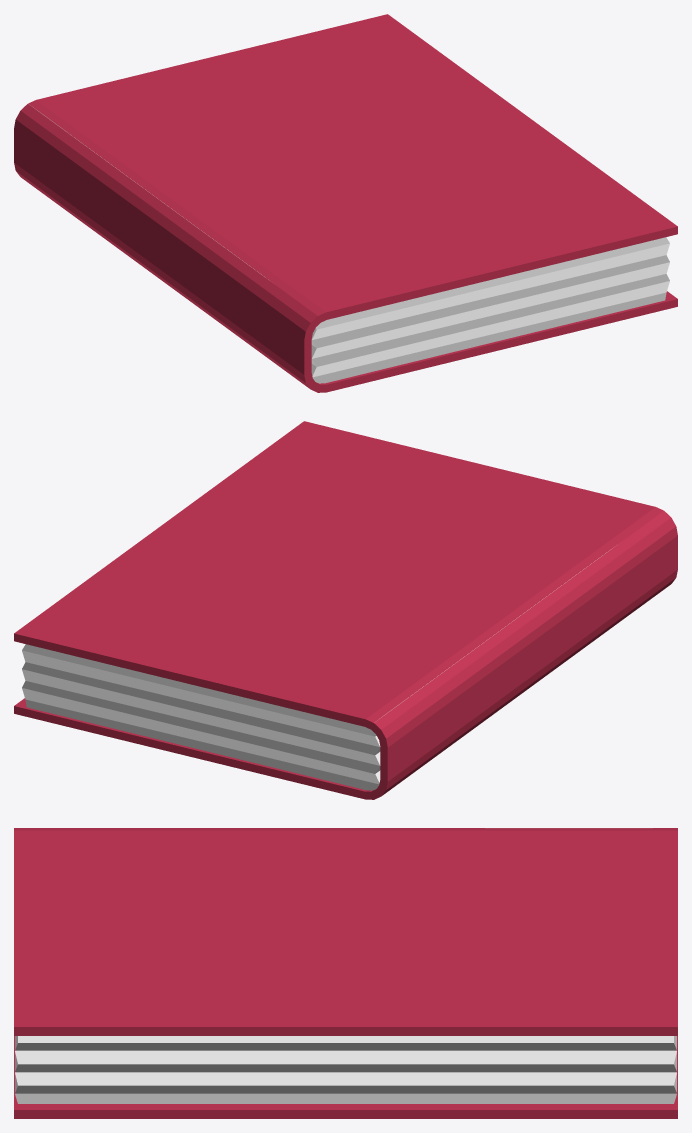
File: book.fbx
3 renders of one model, top to bottom at view 1: azimuth 30°, elevation 25°; view 2: azimuth 150°, elevation 25°; view 3: azimuth 270°, elevation 25°, orthographic. The views are drawn at different scales.
Visible parts, largest first — view 1: Cube.016; view 2: Cube.016; view 3: Cube.016.
Part boxes in pixels (x1=…): Cube.016: x1=14, y1=14, x2=677, y2=392; Cube.016: x1=14, y1=421, x2=677, y2=799; Cube.016: x1=14, y1=828, x2=677, y2=1118.
Bounding box in the file's own units: 84.65 × 17.37 × 114.
